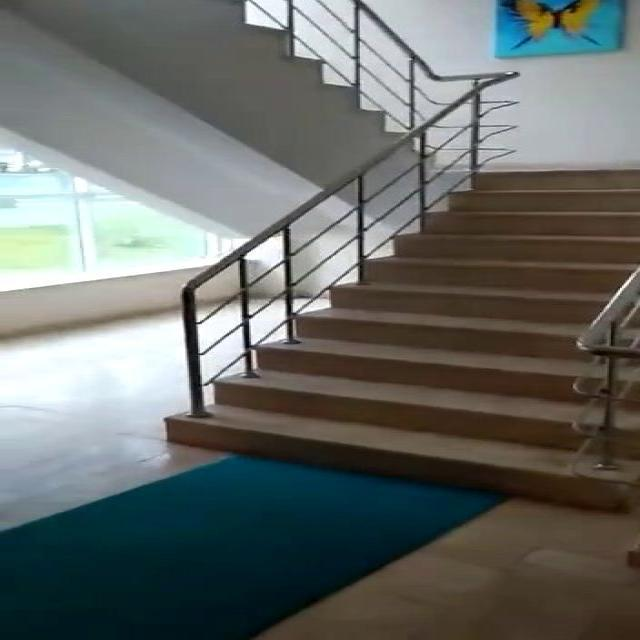stair: (123, 152, 640, 515)
